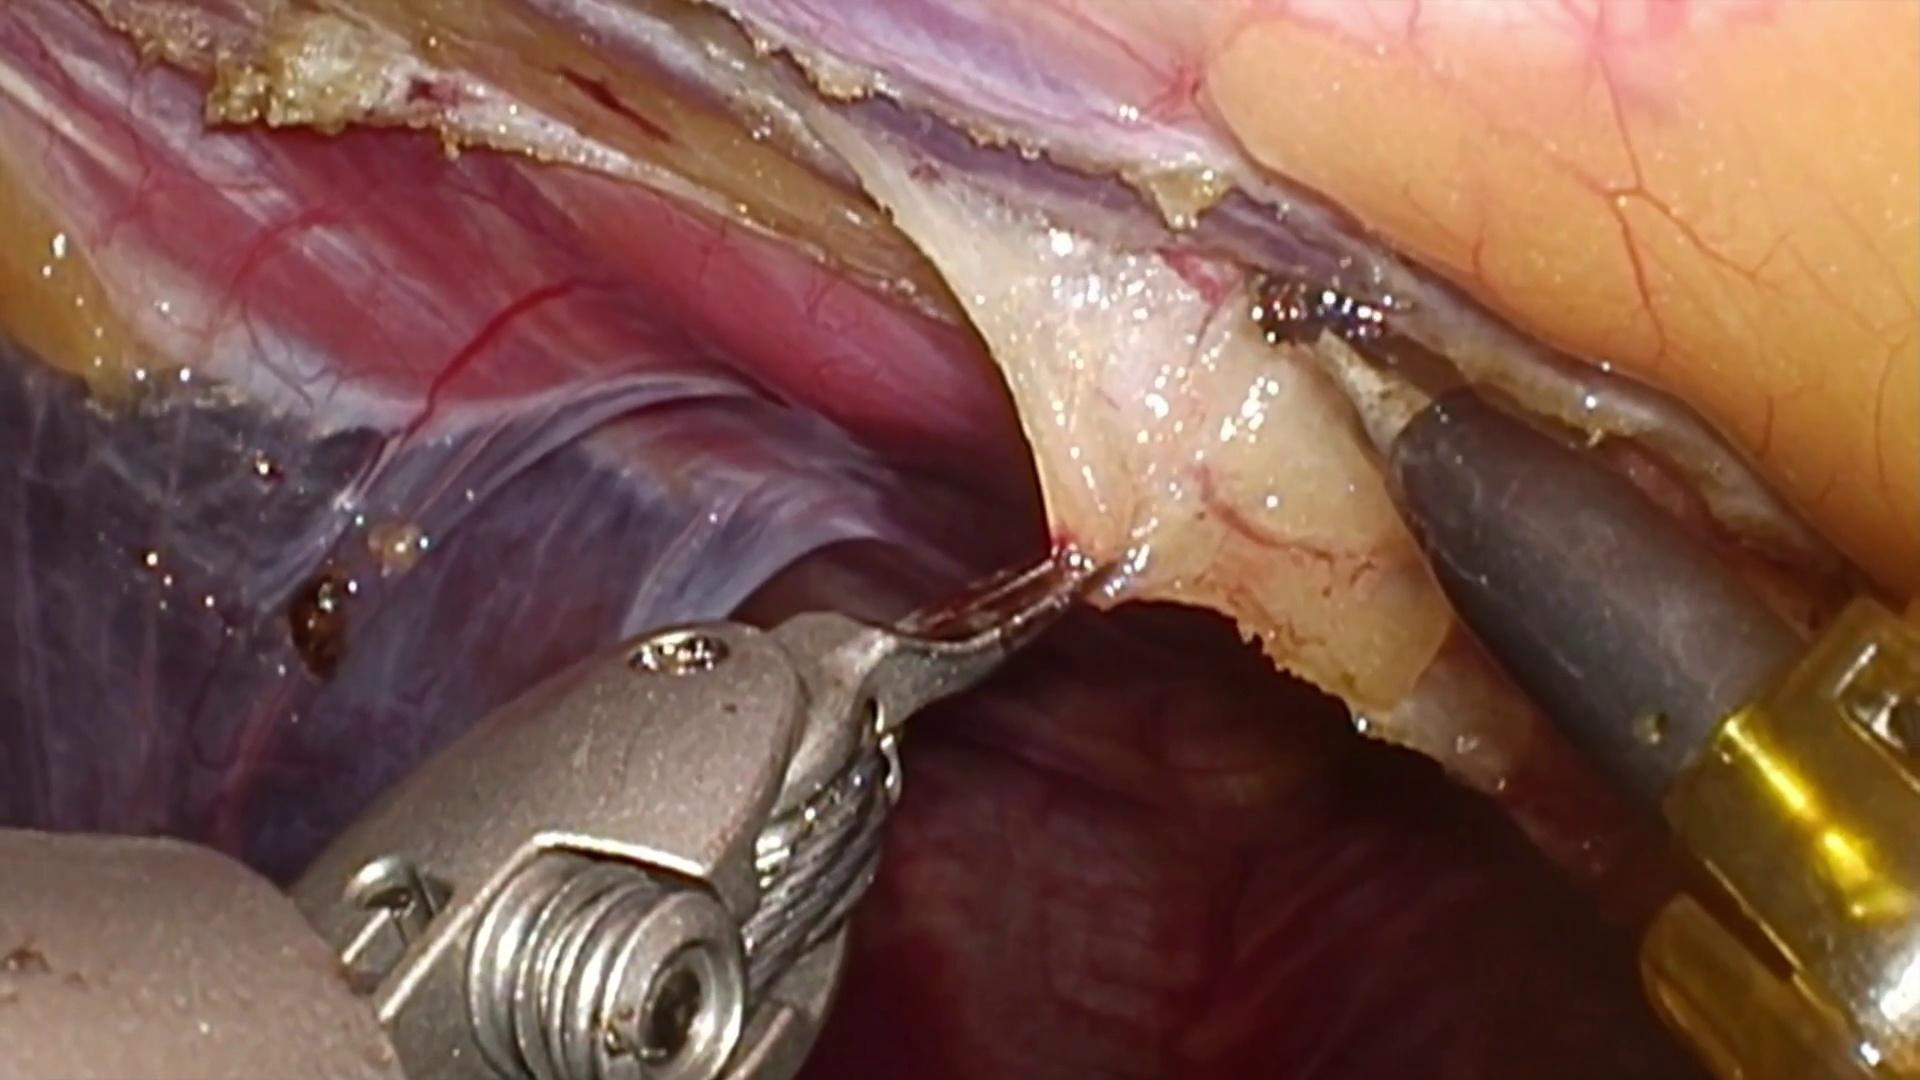Cautery_Spatula: (1255, 273, 1809, 808)
Debakey: (764, 495, 1141, 777)
